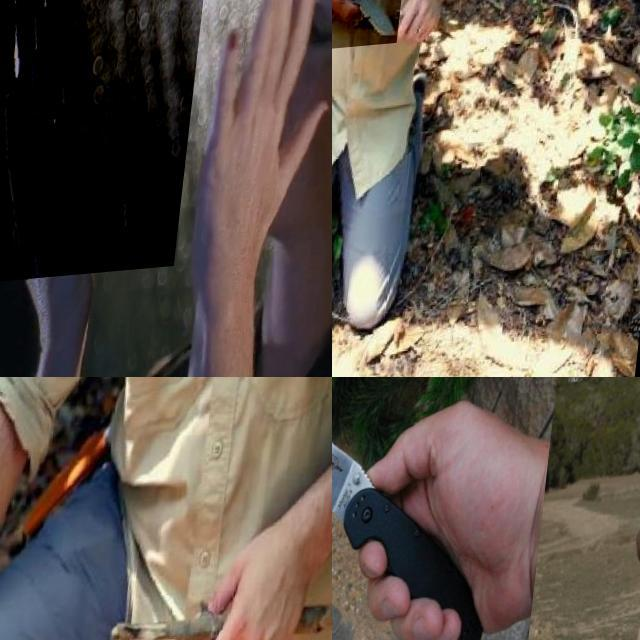-: (332, 377, 498, 640), (351, 377, 514, 430), (332, 0, 409, 55)
gun-knife-thesis - v11 Yolov5 augmented: (0, 0, 224, 286)
